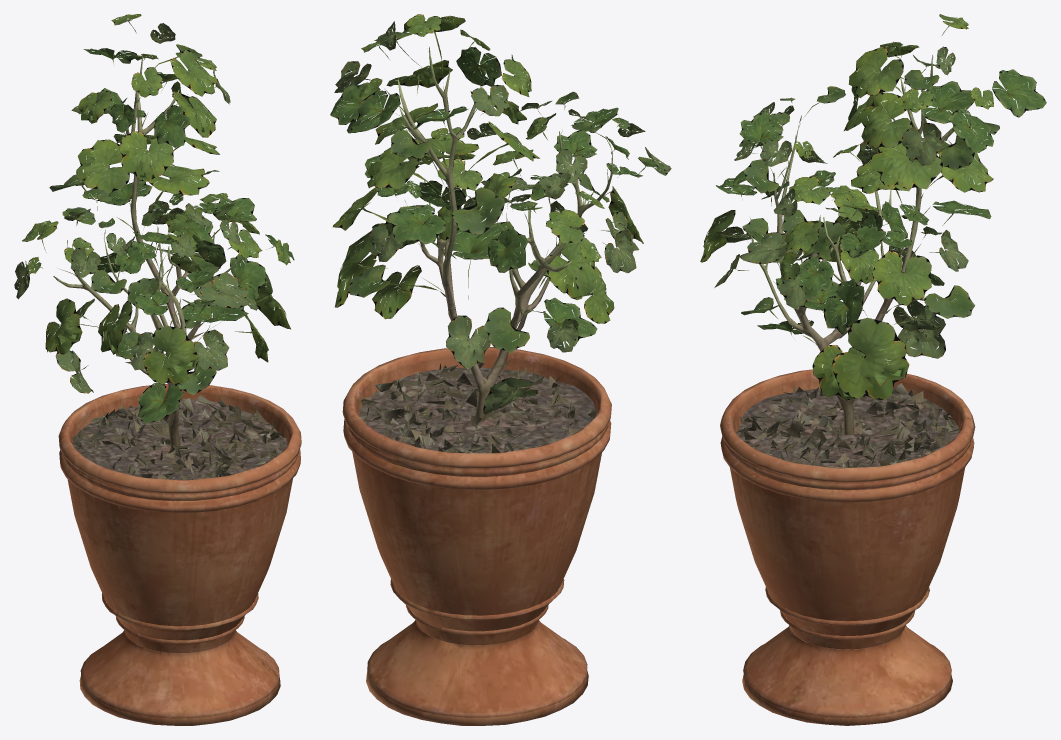
The model's file is plant_tall.glb.
3 views of the same model, side by side, from view 1: azimuth 30°, elevation 25°; view 2: azimuth 150°, elevation 25°; view 3: azimuth 270°, elevation 25° (orthographic). The views are drawn at different scales.
Parts seen in each view (by area): view 1: plant_tall; view 2: plant_tall; view 3: plant_tall.
Part boxes in pixels (x1,y1,x2,y2): plant_tall: [14, 14, 301, 725]; plant_tall: [330, 14, 671, 725]; plant_tall: [700, 14, 1046, 725].
Size of the model in its own units: 0.5853 by 1.34 by 0.6334.
2 materials, 2 textured.
